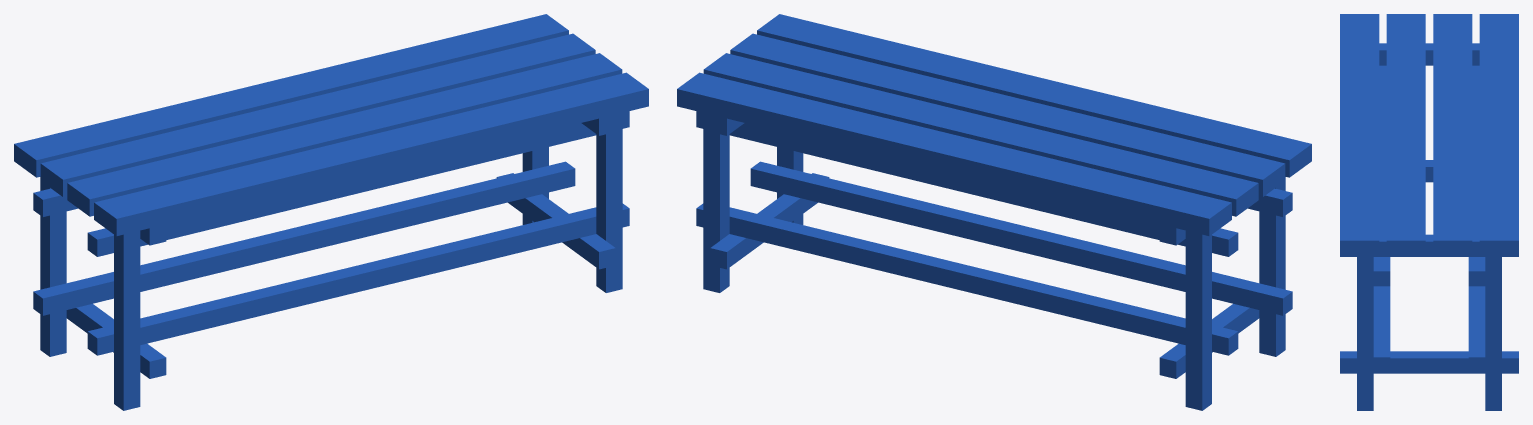
The picture shows the model from 3 angles, left to right: view 1: azimuth 30°, elevation 25°; view 2: azimuth 150°, elevation 25°; view 3: azimuth 270°, elevation 25°; orthographic projection. The views are drawn at different scales.
Parts seen in each view (by area): view 1: mesh3_mesh3-geometry, mesh5_mesh5-geometry, mesh1_mesh1-geometry; view 2: mesh3_mesh3-geometry, mesh5_mesh5-geometry, mesh1_mesh1-geometry; view 3: mesh3_mesh3-geometry, mesh1_mesh1-geometry, mesh5_mesh5-geometry.
Boxes of the visible parts, <box> form: mesh3_mesh3-geometry: <box>14,14,648,236</box>; mesh5_mesh5-geometry: <box>33,111,629,355</box>; mesh1_mesh1-geometry: <box>40,113,622,410</box>; mesh3_mesh3-geometry: <box>677,14,1311,236</box>; mesh5_mesh5-geometry: <box>696,111,1292,355</box>; mesh1_mesh1-geometry: <box>703,113,1285,410</box>; mesh3_mesh3-geometry: <box>1340,14,1518,255</box>; mesh1_mesh1-geometry: <box>1340,43,1518,410</box>; mesh5_mesh5-geometry: <box>1373,65,1485,372</box>.
Size of the model in its own units: 0.8966 by 0.3269 by 0.2989.
